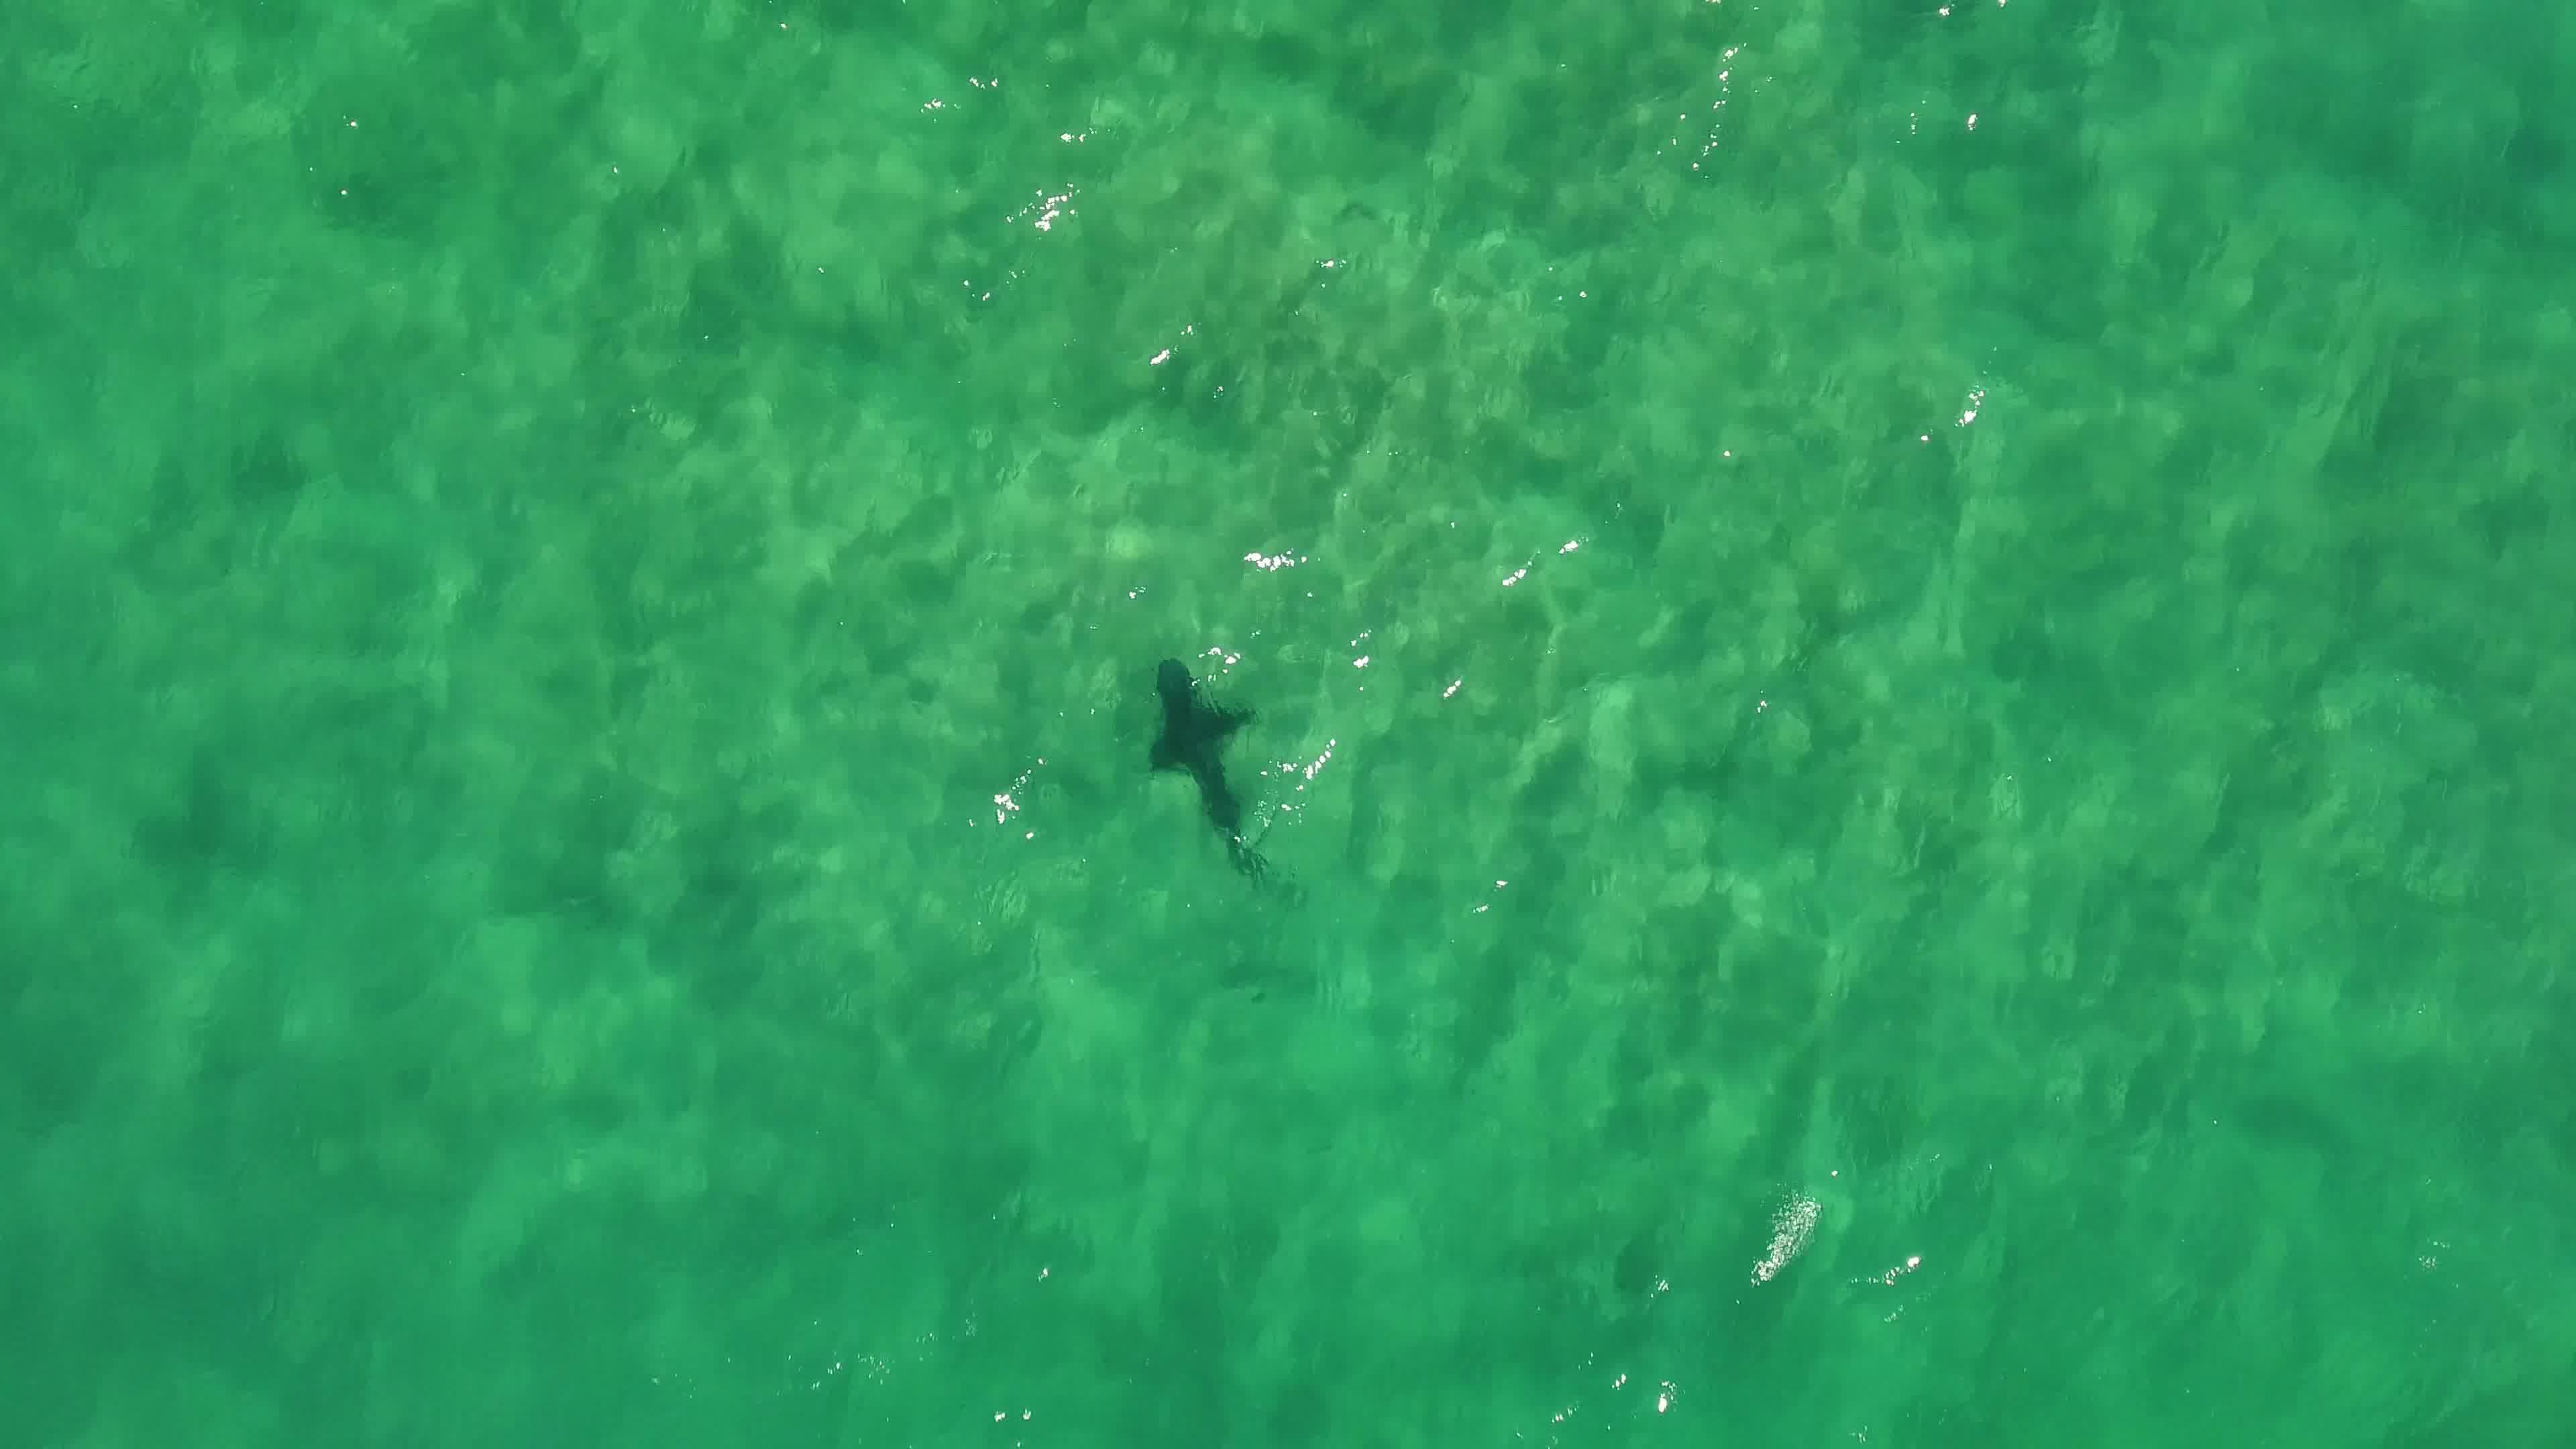shark: (1138, 651, 1274, 872)
